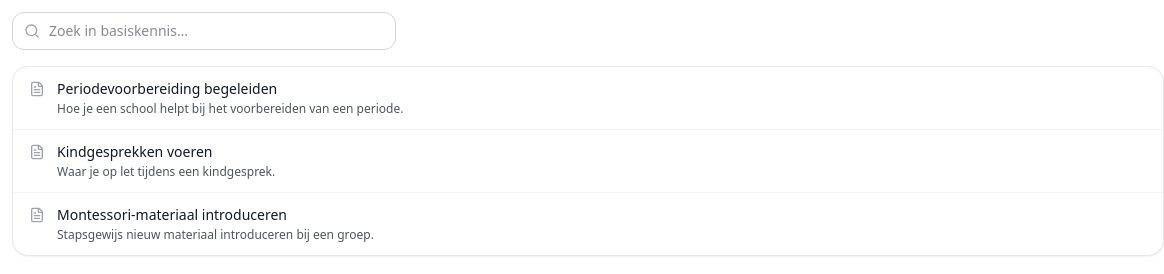
it: KennisLijstClient — zoekbalk › toont een rustige lege staat wanneer niets matcht
The image size is (1164, 274).
Type "xyz-onbestaand" into the search field labelled "Zoek in basiskennis" at (204, 31), box [12,12,396,50]
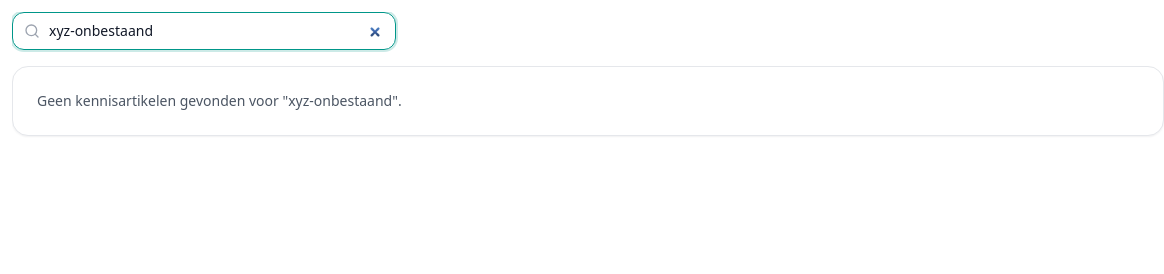
Expected: no links are shown
Expected: the text "Geen kennisartikelen gevonden voor \"xyz-onbestaand\"." is shown, [12,66,1163,136]
